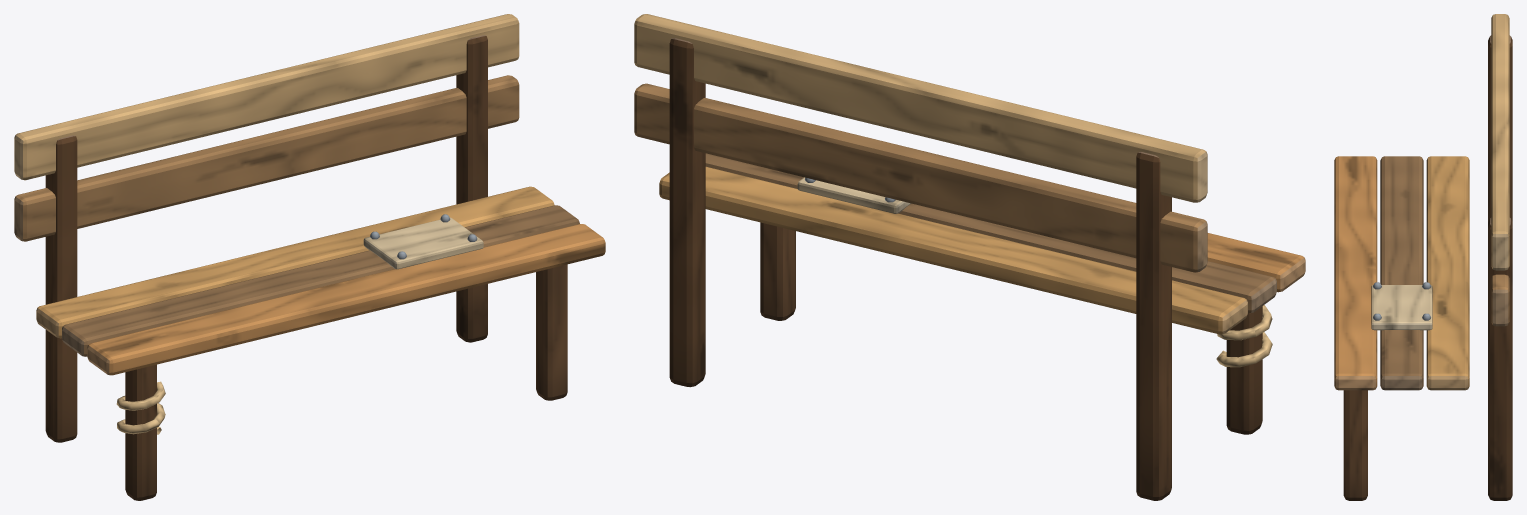
File: grandpa_bench.glb
The picture shows the model from 3 angles, left to right: view 1: azimuth 30°, elevation 25°; view 2: azimuth 150°, elevation 25°; view 3: azimuth 270°, elevation 25°; orthographic projection. The views are drawn at different scales.
Parts seen in each view (by area): view 1: GrandpaBench; view 2: GrandpaBench; view 3: GrandpaBench.
Part boxes in pixels (x1,y1,x2,y2): GrandpaBench: [14, 14, 605, 500]; GrandpaBench: [634, 14, 1305, 500]; GrandpaBench: [1334, 14, 1512, 500].
Size of the model in its own units: 1.7 by 1.02 by 0.5803.
Materials: 1 (1 with a texture image).
